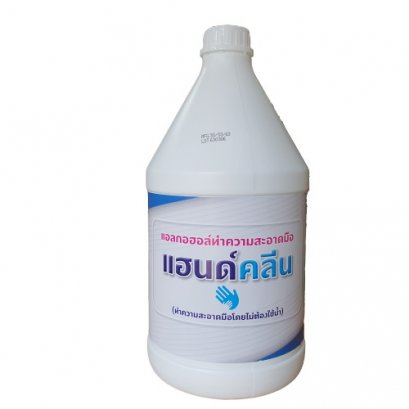Cleaning_solution: (140, 19, 318, 407)
